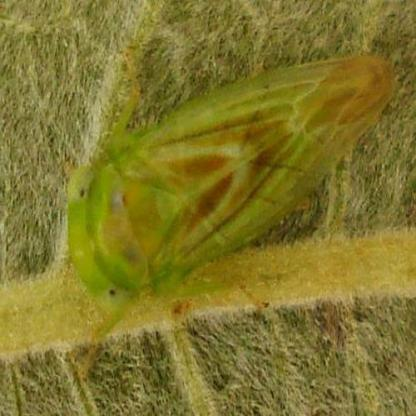green-leafhopper: (67, 52, 400, 380)
